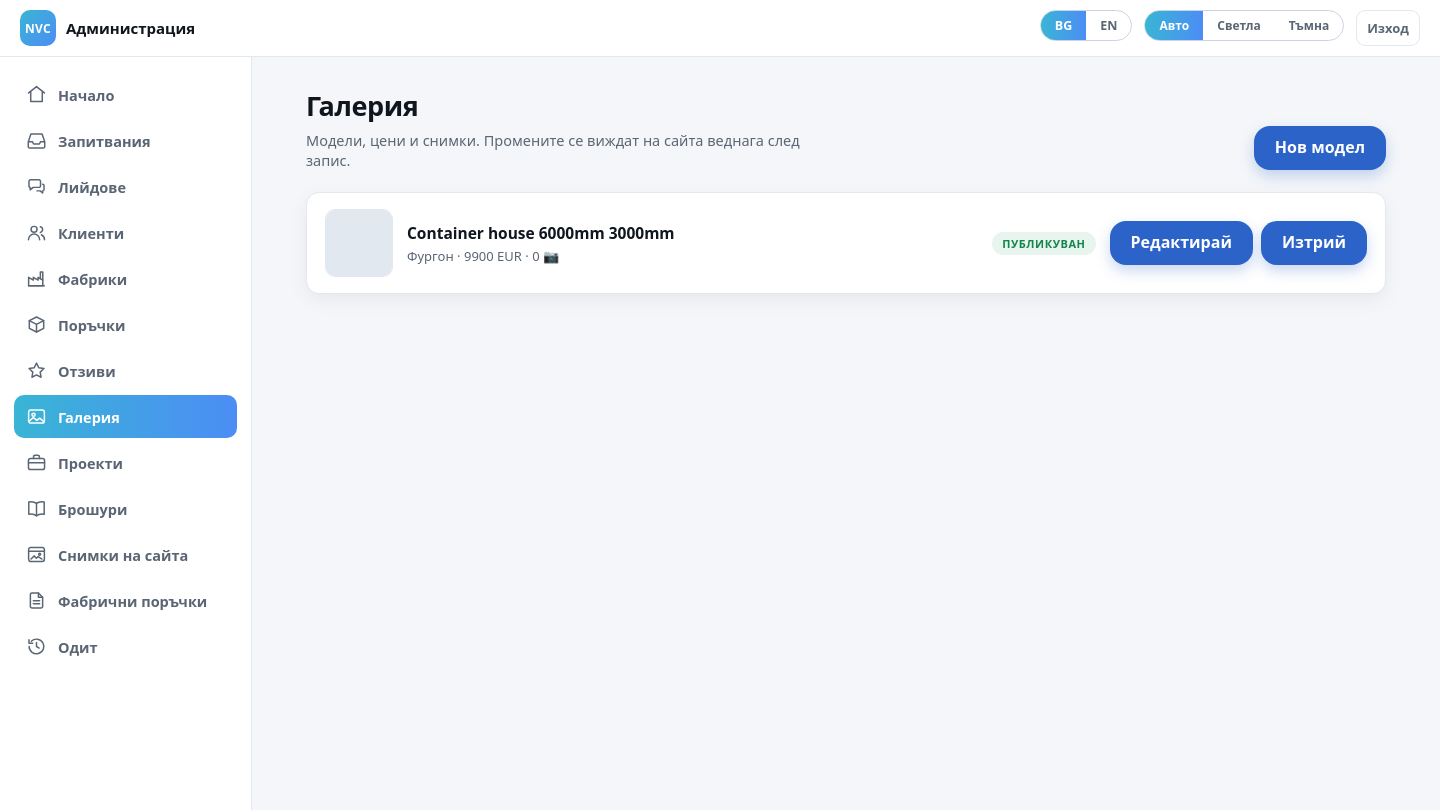
Test: AdminGalleryPage — old addresses (#37) › lists the addresses that now redirect to the model, readable rather than percent-encoded
Step 1. Click the button "Редактирай" → (1181, 243), box [1110, 221, 1253, 265]
(page scrolled)
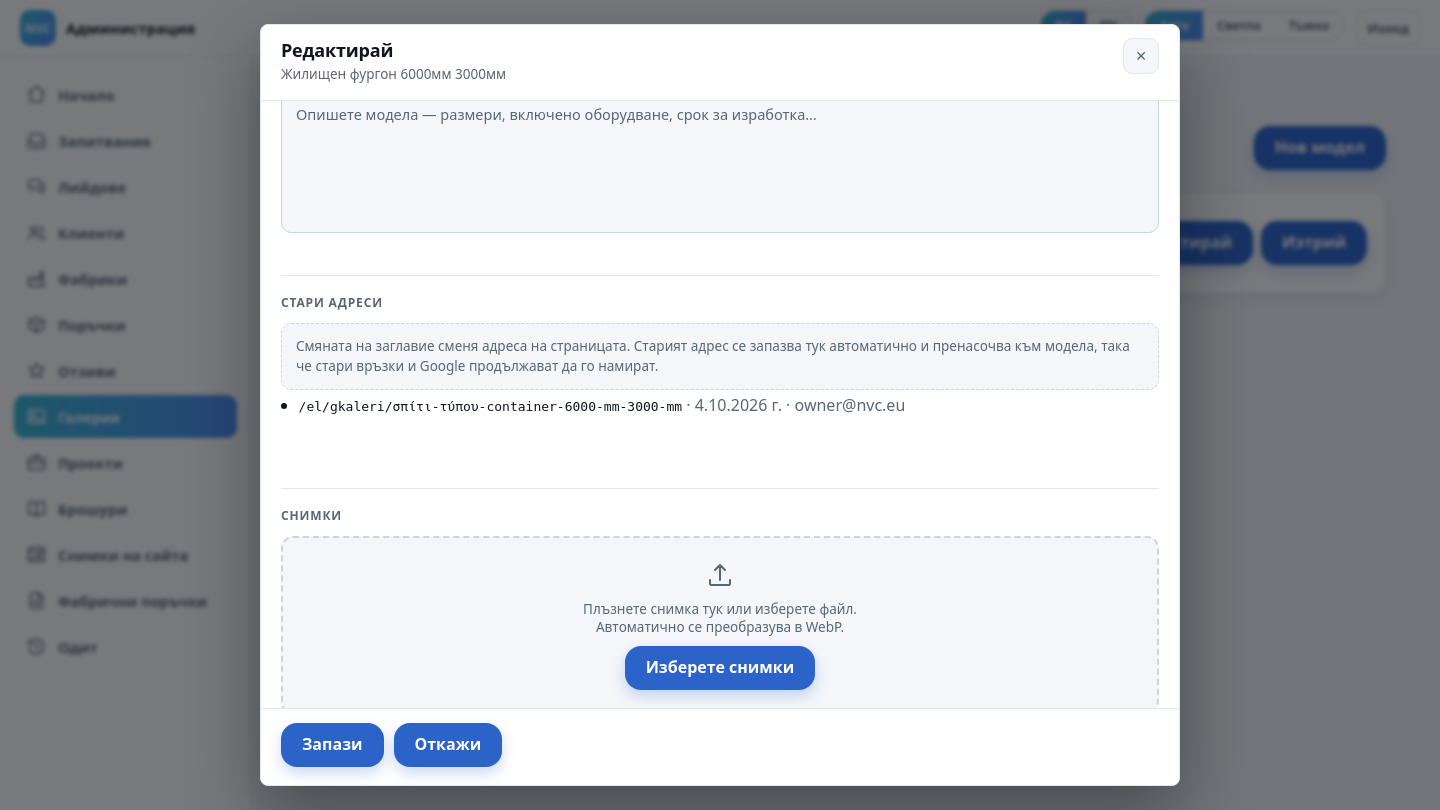
Result: the text "/el/gkaleri/σπίτι-τύπου-container-6000-mm-3000-mm" is shown at [299, 398, 682, 414]
Result: the text "· 4.10.2026 г. · owner@nvc.eu" is shown at [682, 394, 905, 416]
